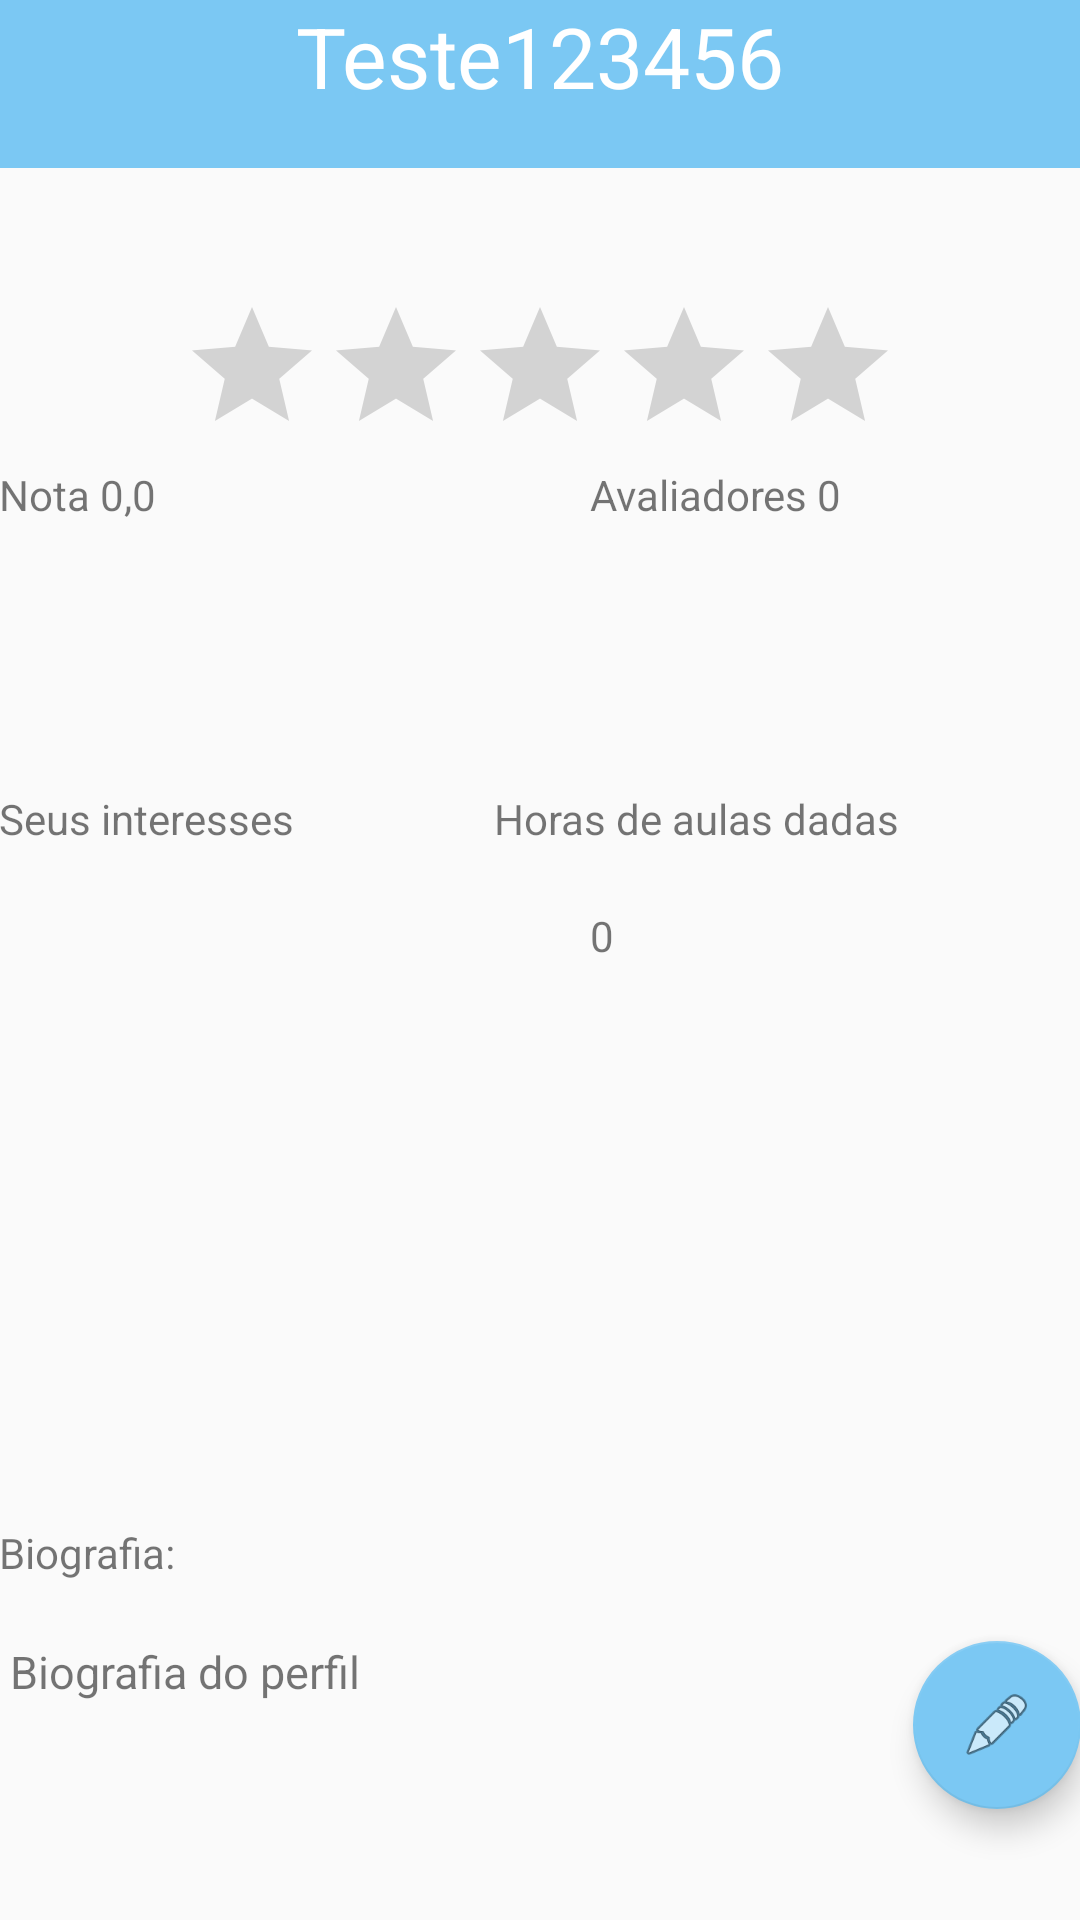

Icon bounding boxes for this 1080w x 1920h phone screenshot, format [left=x1, top=y1, right=x2, bottom=y2]:
edit: [left=913, top=1641, right=1080, bottom=1809]
